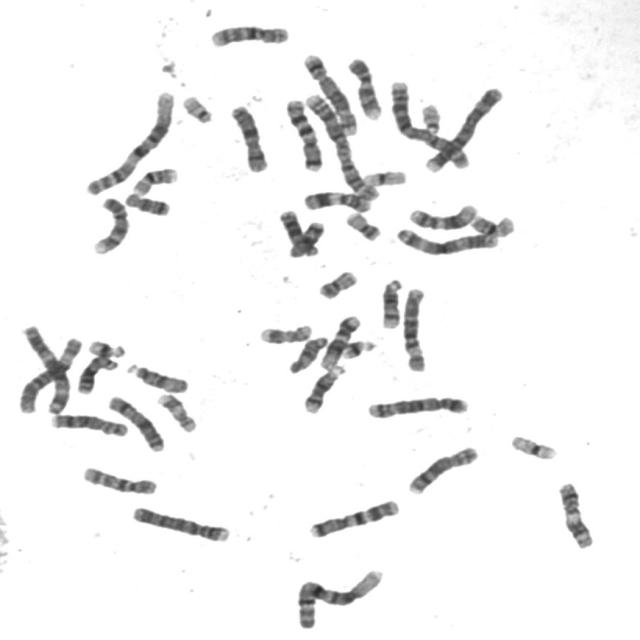A1: (81, 86, 179, 196), (292, 563, 388, 631)
A2: (301, 88, 383, 202), (386, 76, 474, 170)
A3: (15, 325, 79, 415), (392, 222, 503, 257)
B4: (421, 81, 507, 175), (128, 501, 235, 544)
B5: (299, 48, 362, 135), (363, 391, 472, 420)
C10: (79, 462, 162, 496), (206, 19, 294, 48)
C11: (554, 477, 598, 550), (299, 186, 376, 214)
C12: (317, 310, 364, 372), (405, 198, 482, 231)
C6: (13, 331, 85, 415), (399, 282, 431, 373)
C7: (305, 494, 404, 540), (281, 92, 327, 173)
C8: (404, 440, 482, 496), (46, 408, 132, 438)
C9: (344, 53, 386, 121), (89, 192, 132, 255)
D13: (275, 205, 324, 258), (74, 352, 122, 396)
D14: (300, 361, 348, 415), (377, 273, 407, 330)
D15: (124, 358, 192, 394), (284, 330, 332, 375)
E16: (129, 162, 181, 196), (468, 210, 518, 238)
E17: (155, 388, 200, 434), (256, 318, 316, 346)
E18: (286, 217, 328, 258), (122, 188, 174, 216)
F19: (507, 429, 561, 462), (360, 165, 410, 188)
F20: (315, 265, 362, 300), (342, 207, 385, 242)
G21: (84, 335, 128, 360), (338, 334, 379, 360)
G22: (178, 90, 217, 124), (416, 98, 444, 134)
X: (104, 390, 168, 453), (227, 99, 272, 174)
